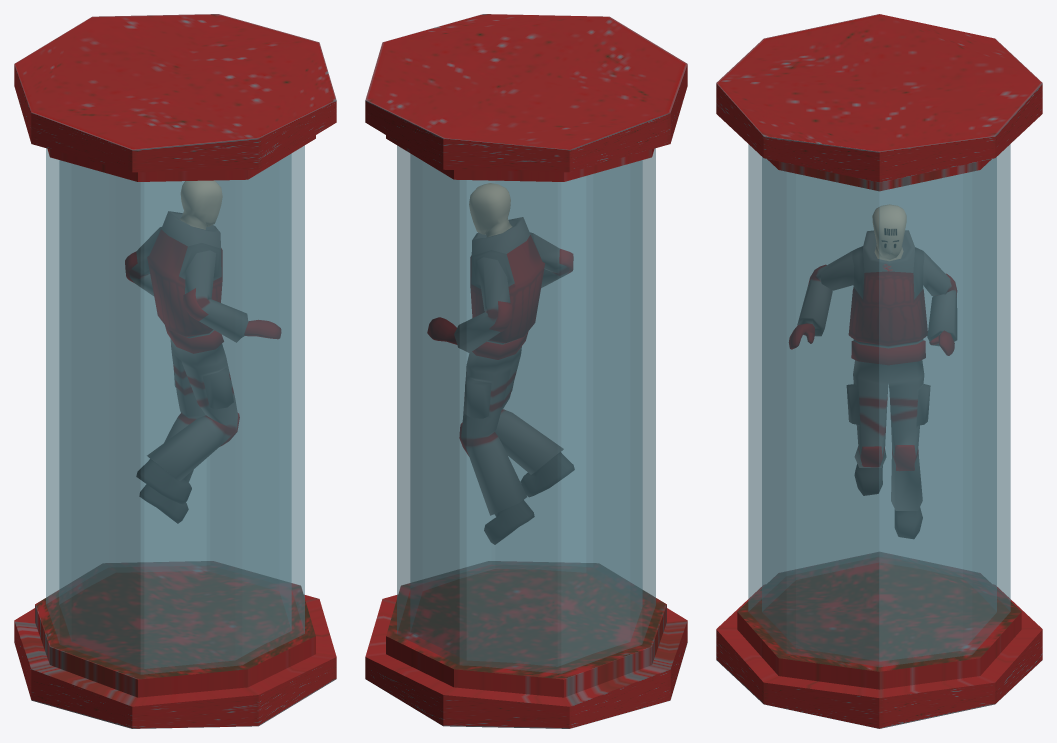
The model's file is TubeSoldier.gltf.
The picture shows the model from 3 angles, left to right: view 1: azimuth 30°, elevation 25°; view 2: azimuth 150°, elevation 25°; view 3: azimuth 270°, elevation 25°; orthographic projection.
Parts seen in each view (by area): view 1: Glass, Tube, Clone; view 2: Glass, Tube, Clone; view 3: Glass, Tube, Clone.
Part boxes in pixels (box(x1,y1,x2,y2)): Glass: box(46, 145, 304, 674); Tube: box(14, 14, 336, 728); Clone: box(125, 180, 281, 523); Glass: box(397, 145, 655, 673); Tube: box(365, 14, 687, 728); Clone: box(427, 183, 574, 544); Glass: box(748, 144, 1010, 666); Tube: box(716, 14, 1042, 728); Clone: box(789, 204, 956, 538).
Bounding box in the file's own units: 2.41 × 4.7 × 2.41.
9 materials, 6 textured.
